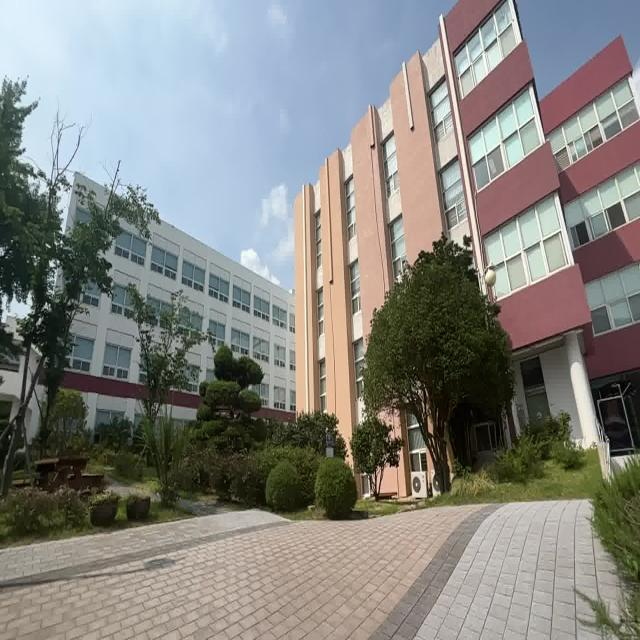building: (89, 0, 640, 311)
